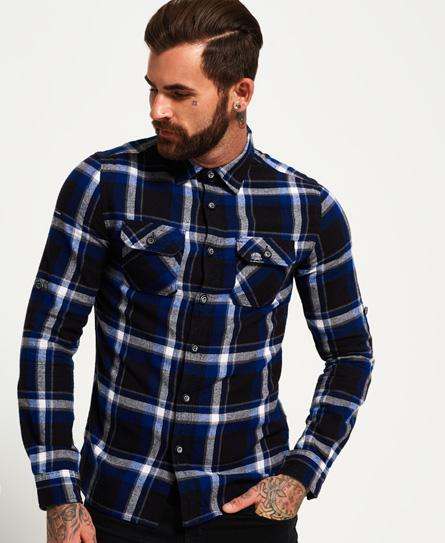teeshirt: (13, 128, 377, 533)
